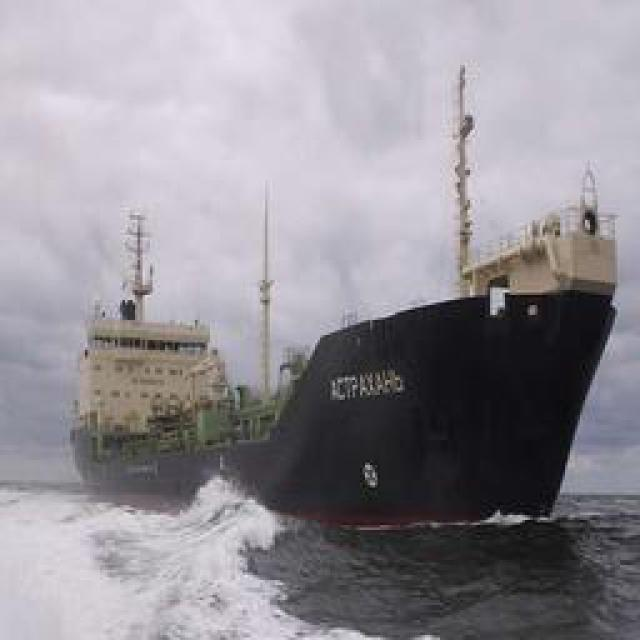Ship: (74, 203, 626, 534)
